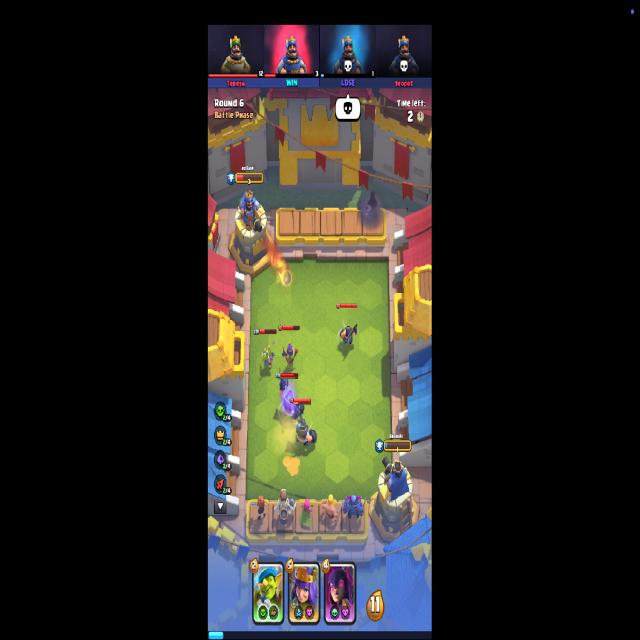archer: (298, 499, 316, 526)
archer_queen: (282, 342, 298, 368)
barbarian: (322, 495, 344, 523)
card_archer_queen: (288, 561, 320, 625)
card_spear_goblin: (252, 561, 284, 627)
card_witch: (324, 560, 356, 626)
executioner: (339, 322, 358, 348)
giant_skeleton: (274, 489, 295, 523)
mega_knight: (291, 408, 317, 449), (280, 377, 304, 421)
pekka: (342, 497, 367, 522)
spear_goblin: (261, 342, 275, 369)
valkyrie: (250, 496, 268, 523)
